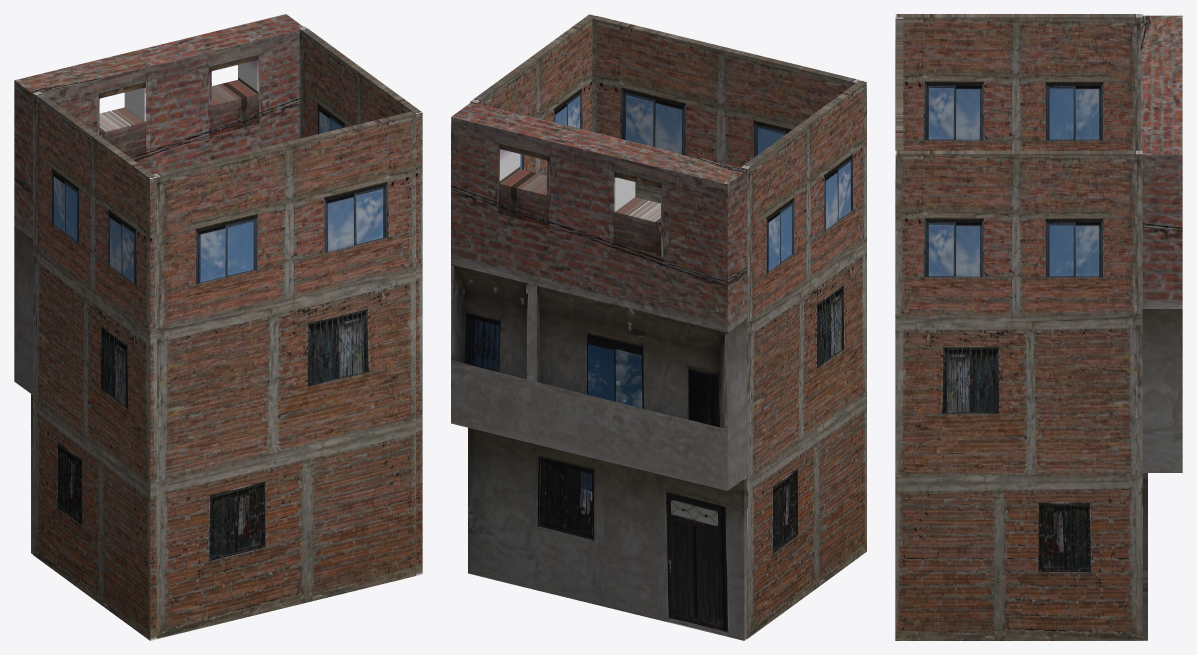
File: casa_derecha_23.fbx
3 renders of one model, left to right at view 1: azimuth 30°, elevation 25°; view 2: azimuth 150°, elevation 25°; view 3: azimuth 270°, elevation 25°, orthographic. The views are drawn at different scales.
Parts seen in each view (by area): view 1: casa_derecha_23B.003, casa_derecha_23B.001, casa_derecha_23A.001, casa_derecha_23B.002; view 2: casa_derecha_23A.001, casa_derecha_23B.001, casa_derecha_23B.003, casa_derecha_23B.002; view 3: casa_derecha_23B.002, casa_derecha_23B.001, casa_derecha_23A.001, casa_derecha_23B.003.
Part boxes in pixels (box(x1,y1,x2,y2)): casa_derecha_23B.003: box(153, 111, 415, 638); casa_derecha_23B.001: box(33, 91, 156, 640); casa_derecha_23A.001: box(14, 14, 303, 554); casa_derecha_23B.002: box(298, 26, 422, 575); casa_derecha_23A.001: box(451, 103, 746, 640); casa_derecha_23B.001: box(741, 80, 866, 638); casa_derecha_23B.003: box(592, 16, 859, 203); casa_derecha_23B.002: box(470, 14, 595, 175); casa_derecha_23B.002: box(895, 150, 1142, 640); casa_derecha_23B.001: box(895, 14, 1142, 150); casa_derecha_23A.001: box(1141, 15, 1182, 640); casa_derecha_23B.003: box(895, 17, 903, 150).
Bounding box in the file's own units: 546 × 885 × 474.
